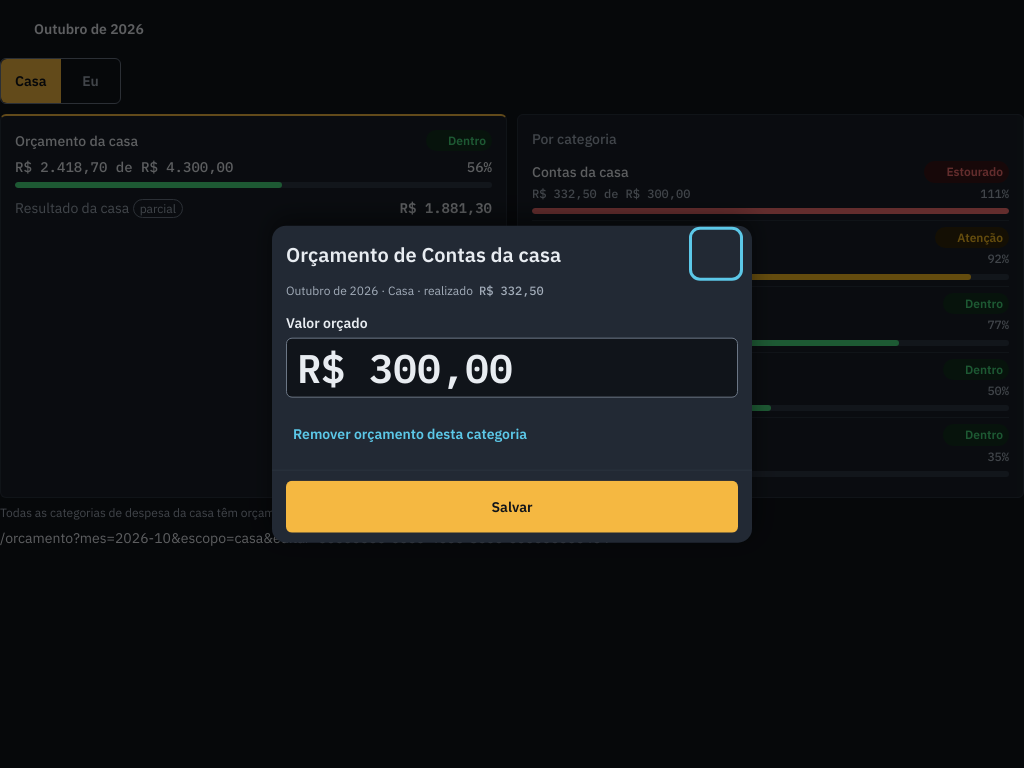
Test case: Folha de valor do orçamento: erros › registro_invalido com refetch sem a categoria: a folha some, ?editar= sai e a mensagem fica no aviso global
The image size is (1024, 768).
Click the button "Salvar" at (512, 506), box [286,480,738,532]
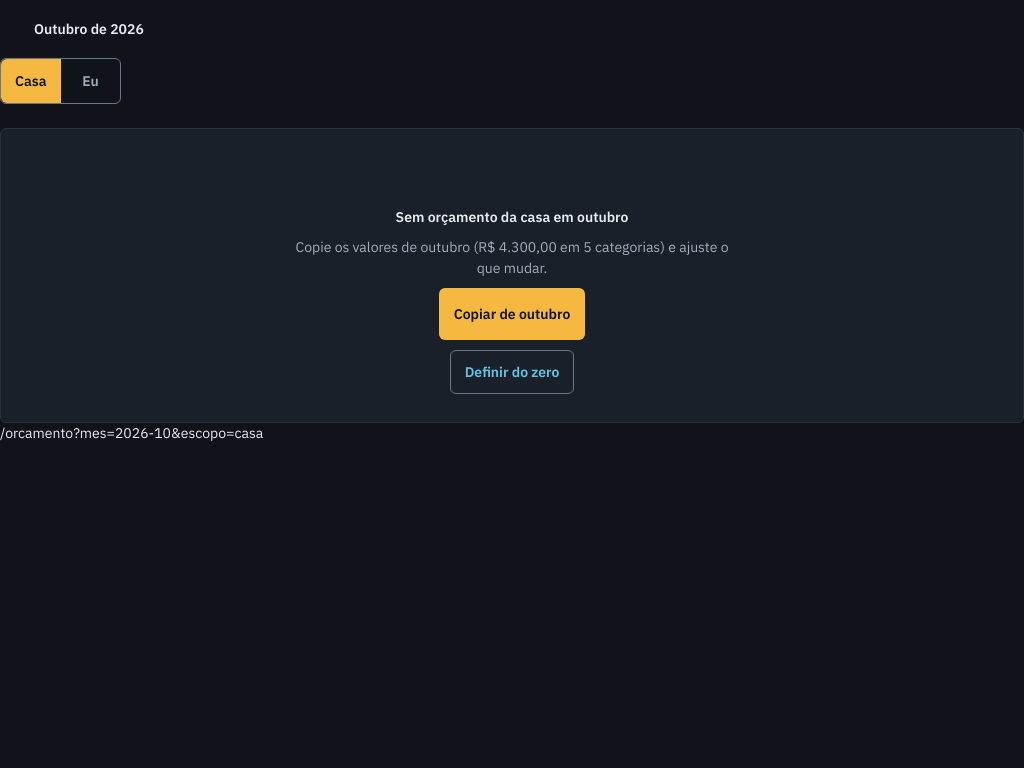
Expected: the dialog is gone
Expected: the text with test id "local" no longer shows "editar=", [0,424,263,442]
